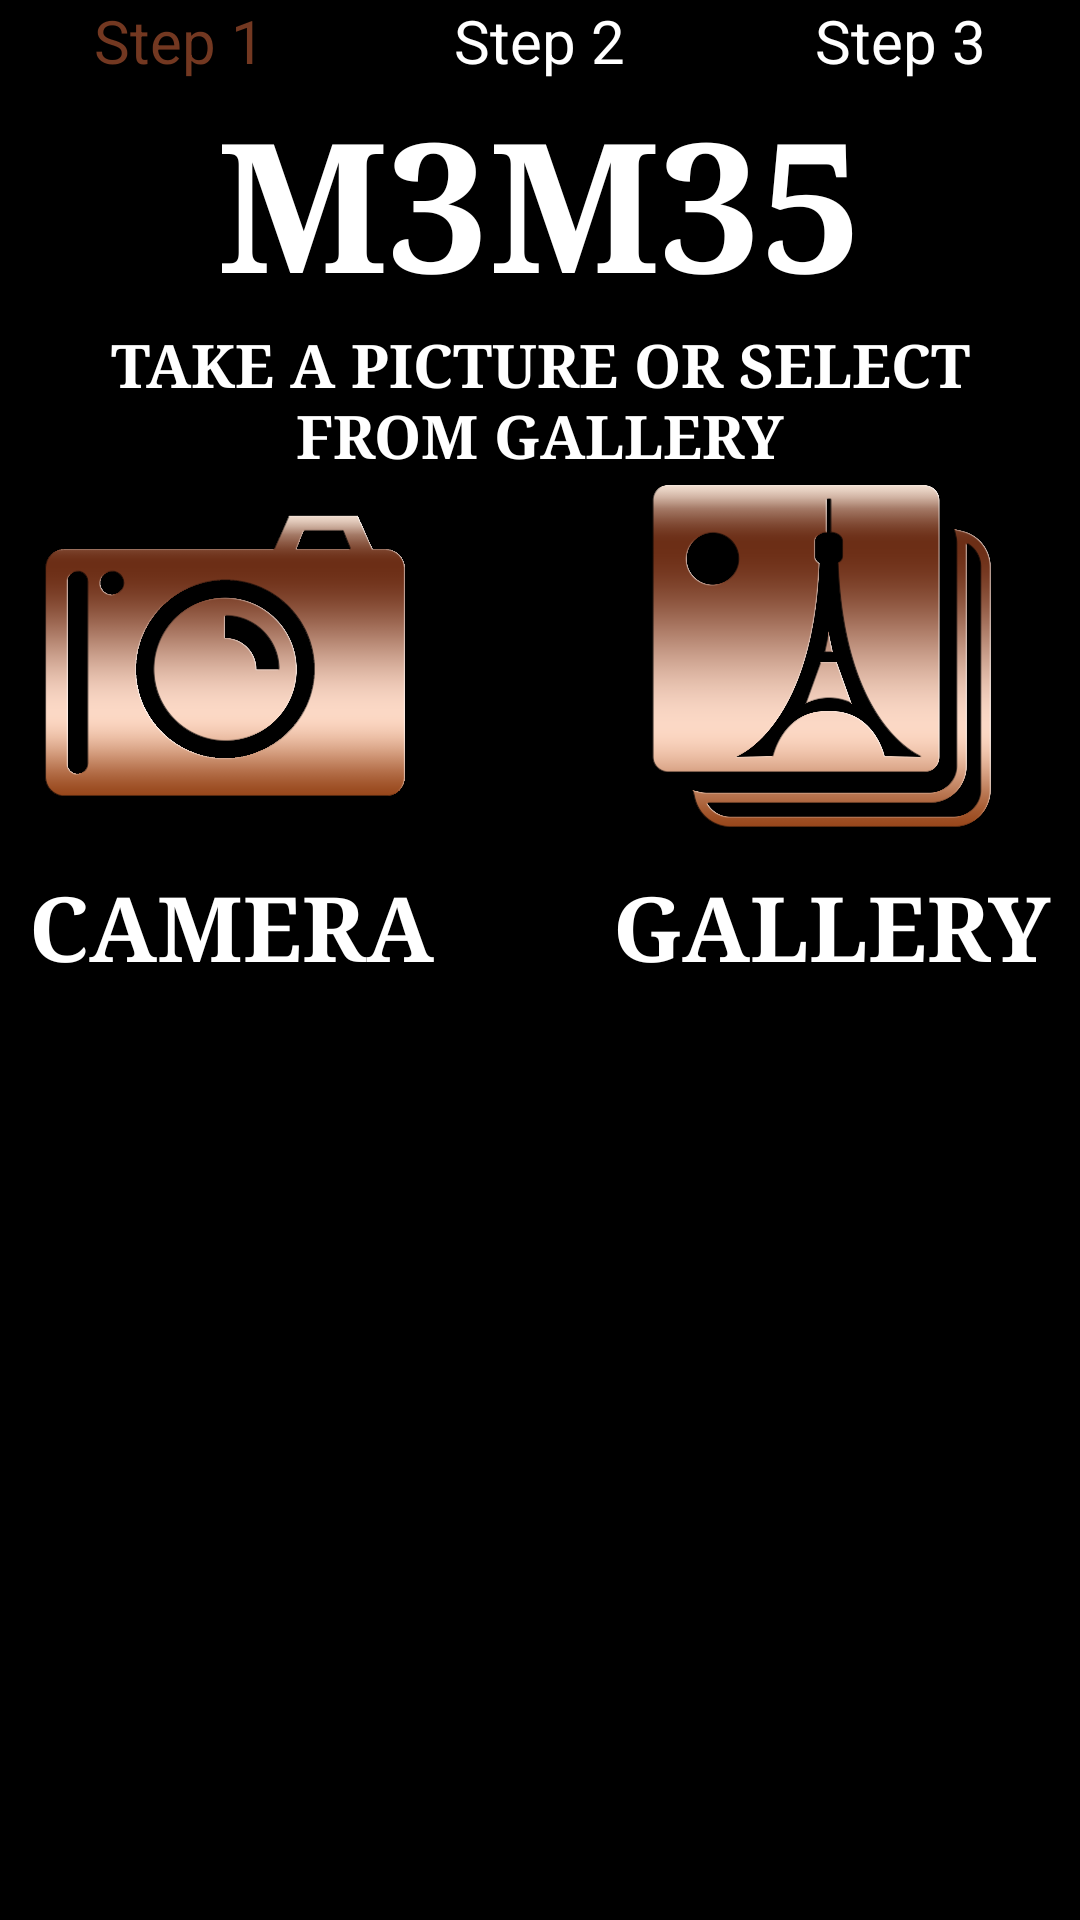

Named icons in this screenshot (1080x1920) and their bounding boxes, (x1, y1, x2, y2):
album: (652, 485, 991, 827)
